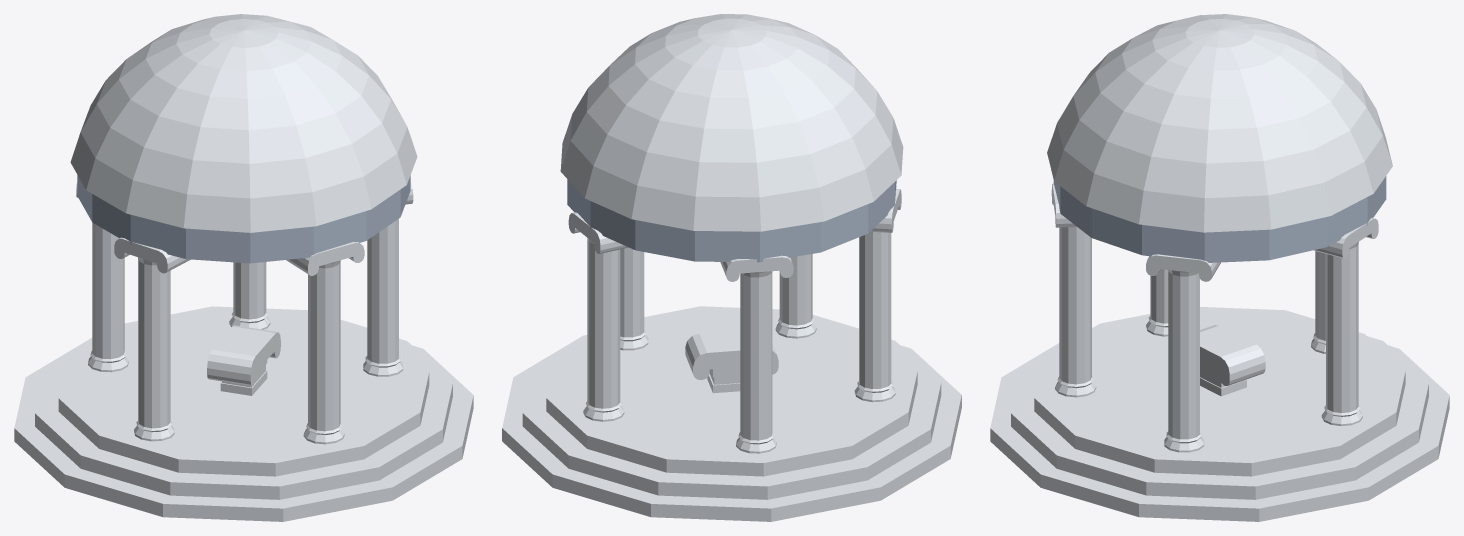
File: Altar.fbx
3 views of the same model, side by side, from view 1: azimuth 30°, elevation 25°; view 2: azimuth 150°, elevation 25°; view 3: azimuth 270°, elevation 25° (orthographic).
Visible parts, largest first — view 1: Altar; view 2: Altar; view 3: Altar.
Boxes of the visible parts, x1,y1,x2,y2 form: Altar: (14, 14, 473, 521); Altar: (502, 14, 961, 521); Altar: (990, 14, 1449, 521).
Size of the model in its own units: 5579 by 5288 by 5579.
